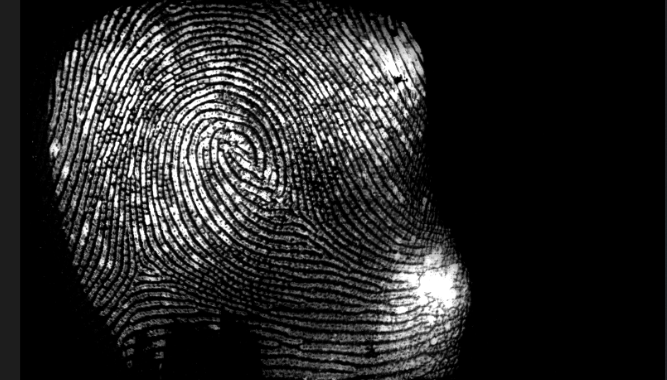deltas: (113, 237, 169, 295), (265, 187, 310, 235)
nucleo: (205, 121, 267, 189)
